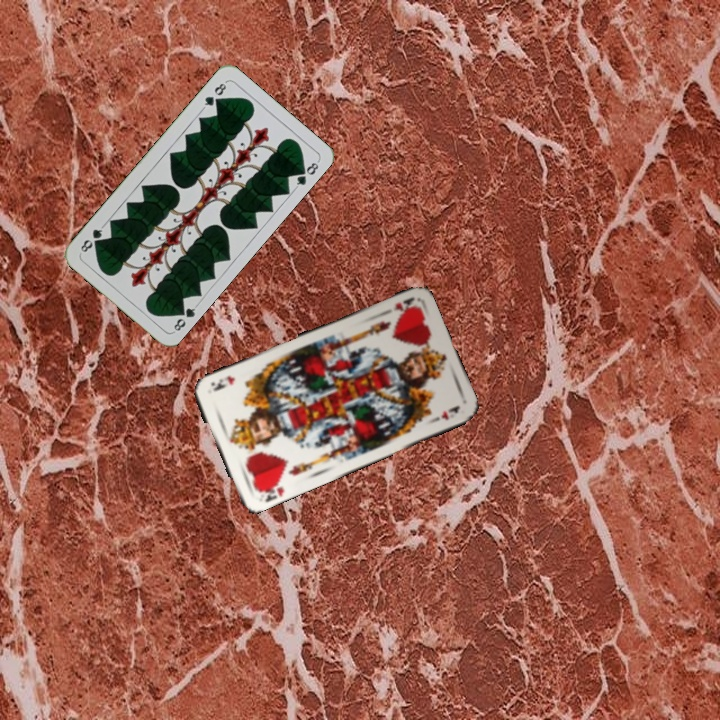G8: (169, 301, 200, 335), (199, 78, 229, 112)
HK: (378, 293, 419, 318), (254, 477, 287, 505)
